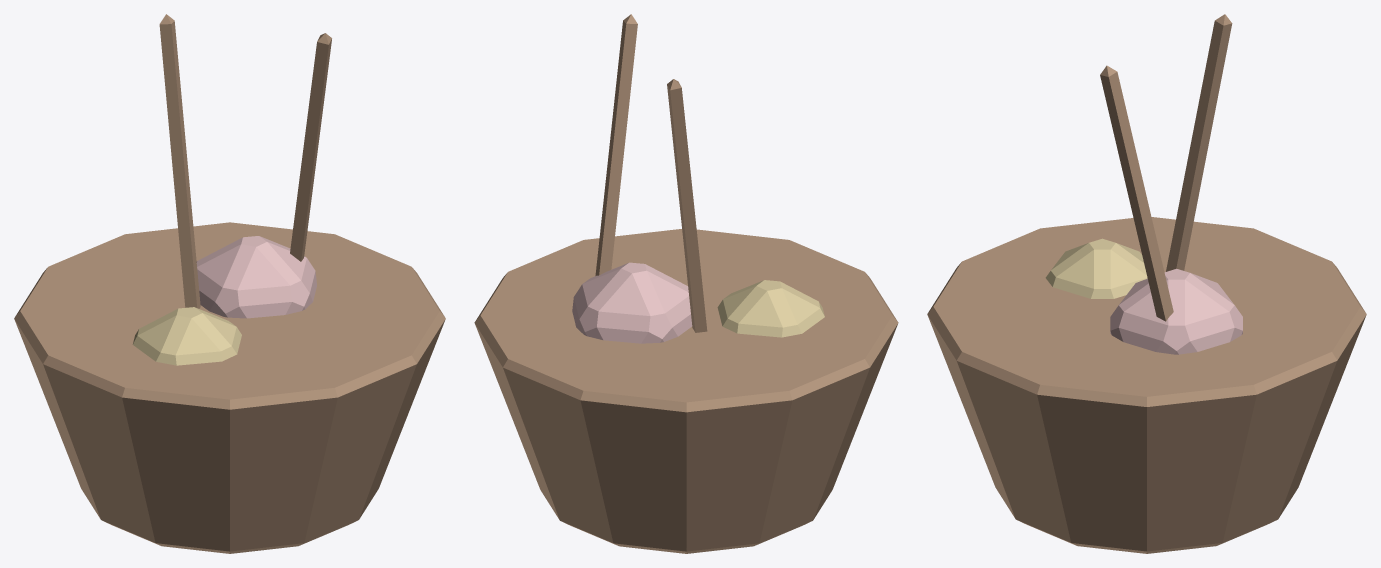
Rendered from SM_Knitting_Basket.fbx.
3 views of the same model, side by side, from view 1: azimuth 30°, elevation 25°; view 2: azimuth 150°, elevation 25°; view 3: azimuth 270°, elevation 25° (orthographic). The views are drawn at different scales.
Parts seen in each view (by area): view 1: Knitting_Basket; view 2: Knitting_Basket; view 3: Knitting_Basket.
Boxes of the visible parts, box(x1,y1,x2,y2) form: Knitting_Basket: box(14, 14, 445, 553); Knitting_Basket: box(474, 14, 898, 553); Knitting_Basket: box(927, 14, 1366, 553).
Size of the model in its own units: 29.59 by 34.8 by 29.59.
